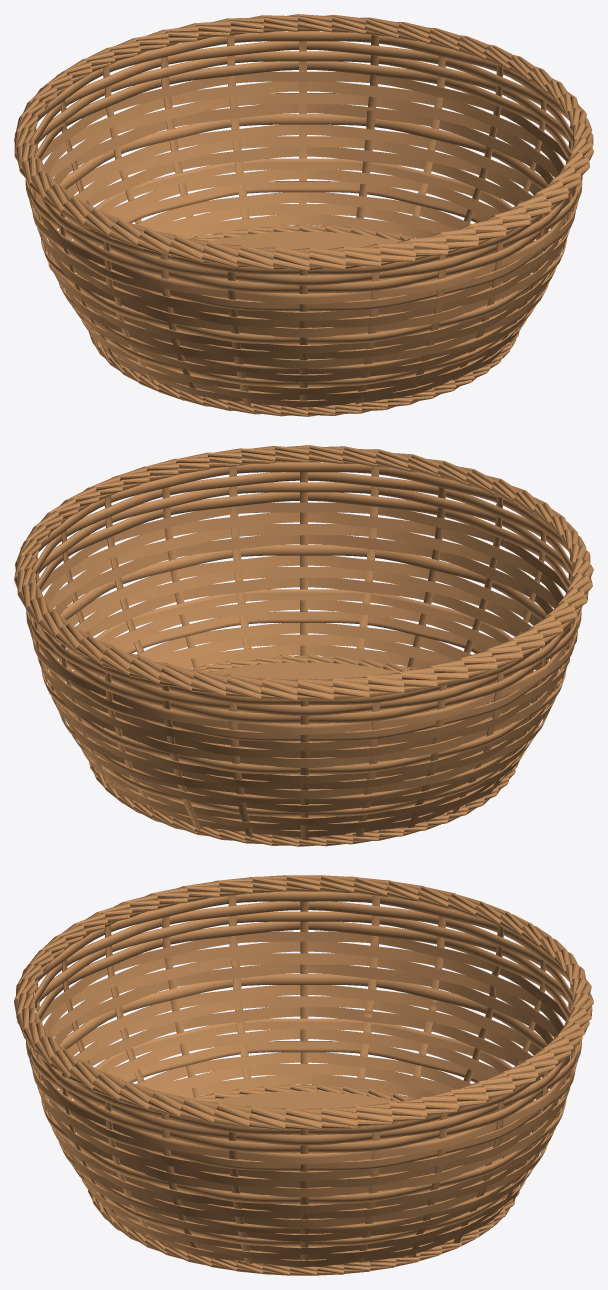
File: obj_basket_cc9525.glb
3 views of the same model, one above another, from view 1: azimuth 30°, elevation 25°; view 2: azimuth 150°, elevation 25°; view 3: azimuth 270°, elevation 25° (orthographic).
Parts seen in each view (by area): view 1: obj_basket_cc9525; view 2: obj_basket_cc9525; view 3: obj_basket_cc9525.
Part boxes in pixels (<box>): obj_basket_cc9525: <box>14,14,593,416</box>; obj_basket_cc9525: <box>14,445,593,846</box>; obj_basket_cc9525: <box>14,875,593,1275</box>.
Size of the model in its own units: 1.61 by 0.6 by 1.61.
